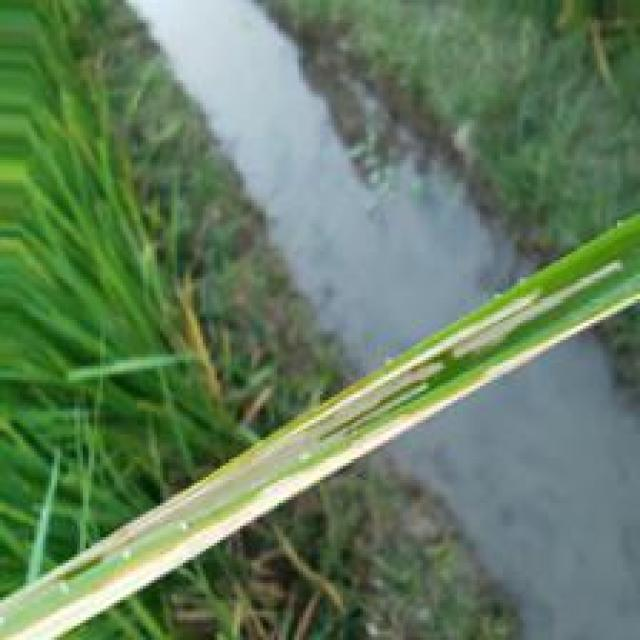Rice_Hispa: (0, 261, 638, 640)
